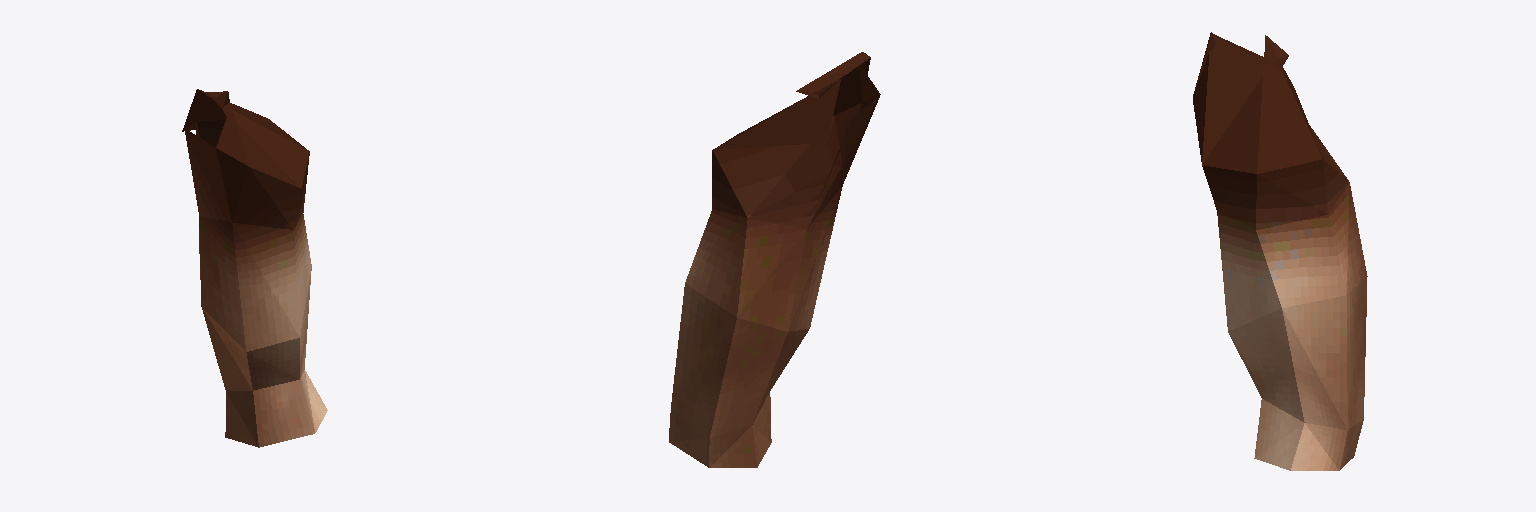
3 views of the same model, side by side, from view 1: azimuth 30°, elevation 25°; view 2: azimuth 150°, elevation 25°; view 3: azimuth 270°, elevation 25° (orthographic).
Visible parts, largest first — view 1: 0001_r_sym307; view 2: 0001_r_sym307; view 3: 0001_r_sym307.
Boxes of the visible parts, x1,y1,x2,y2 form: 0001_r_sym307: [182, 89, 327, 447]; 0001_r_sym307: [669, 52, 880, 467]; 0001_r_sym307: [1193, 32, 1367, 470].
Bounding box in the file's own units: 0.079 × 0.1899 × 0.0776.
Materials: 1 (1 with a texture image).